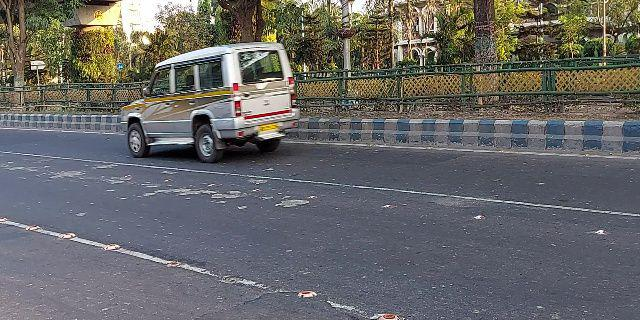Car: (121, 38, 304, 165)
